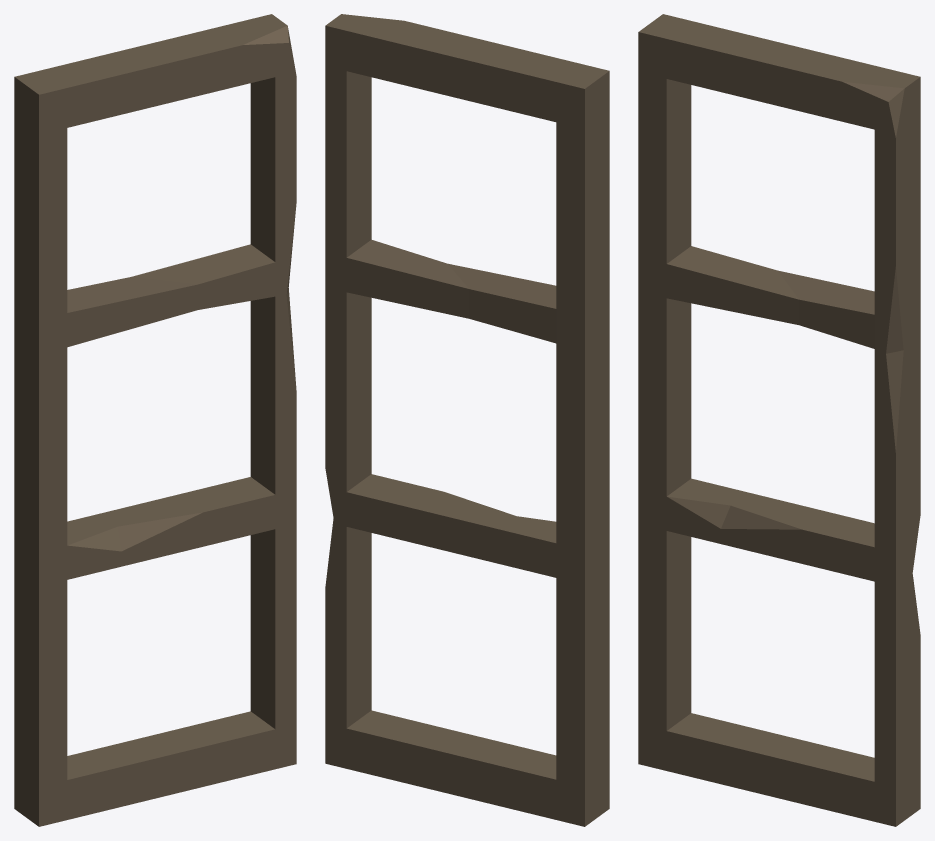
Rendered from SM_Bld_Village_Window_Fold_R_02.glb.
3 views of the same model, side by side, from view 1: azimuth 30°, elevation 25°; view 2: azimuth 150°, elevation 25°; view 3: azimuth 330°, elevation 25° (orthographic).
Parts seen in each view (by area): view 1: SM_Bld_Village_Window_Fold_R_02; view 2: SM_Bld_Village_Window_Fold_R_02; view 3: SM_Bld_Village_Window_Fold_R_02.
Part boxes in pixels (left/top/right/bottom): SM_Bld_Village_Window_Fold_R_02: left=14, top=14, right=296, bottom=826; SM_Bld_Village_Window_Fold_R_02: left=325, top=14, right=609, bottom=826; SM_Bld_Village_Window_Fold_R_02: left=638, top=14, right=920, bottom=826.
Bounding box in the file's own units: 0.5006 × 1.36 × 0.0829.
1 material, 1 textured.
